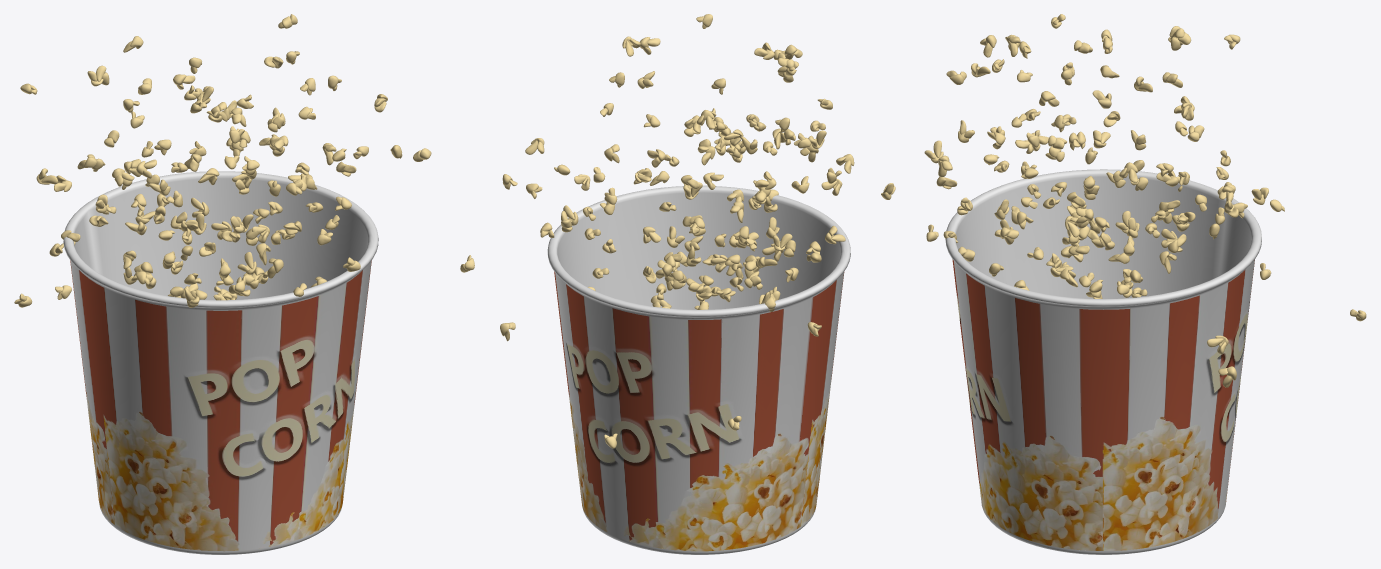
The model's file is popcorn.optimized.glb.
3 renders of one model, left to right at view 1: azimuth 30°, elevation 25°; view 2: azimuth 150°, elevation 25°; view 3: azimuth 270°, elevation 25°, orthographic. The views are drawn at different scales.
Visible parts, largest first — view 1: Object_2, Object_3, Object_4; view 2: Object_2, Object_3, Object_4; view 3: Object_2, Object_3, Object_4.
Part boxes in pixels (x1=…): Object_2: x1=70, y1=260, x2=371, y2=551; Object_3: x1=63, y1=171, x2=378, y2=554; Object_4: x1=14, y1=14, x2=431, y2=307; Object_2: x1=554, y1=271, x2=844, y2=551; Object_3: x1=547, y1=185, x2=850, y2=554; Object_4: x1=460, y1=14, x2=895, y2=448; Object_2: x1=952, y1=259, x2=1254, y2=550; Object_3: x1=945, y1=169, x2=1261, y2=554; Object_4: x1=924, y1=14, x2=1366, y2=387.
Bounding box in the file's own units: 3.37 × 4.45 × 3.73.
3 materials, 1 textured.
